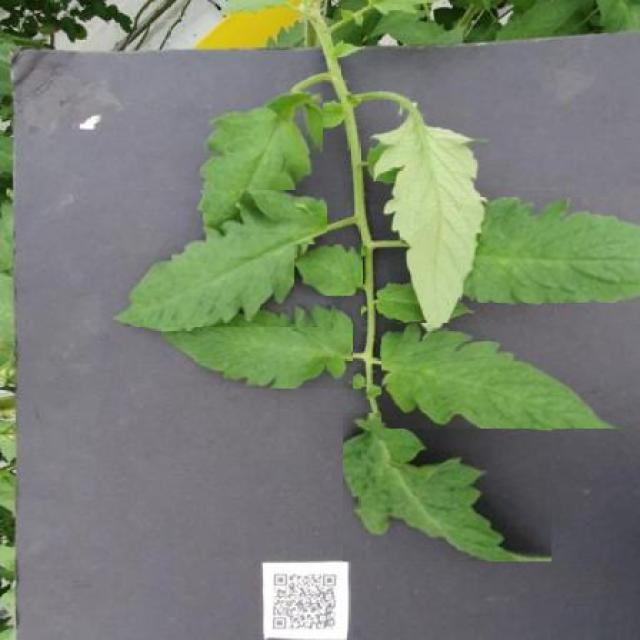Healthy: (343, 413, 551, 561), (113, 191, 327, 328), (382, 322, 627, 429), (460, 197, 640, 303), (194, 92, 323, 228), (162, 300, 354, 389), (295, 245, 364, 296)
